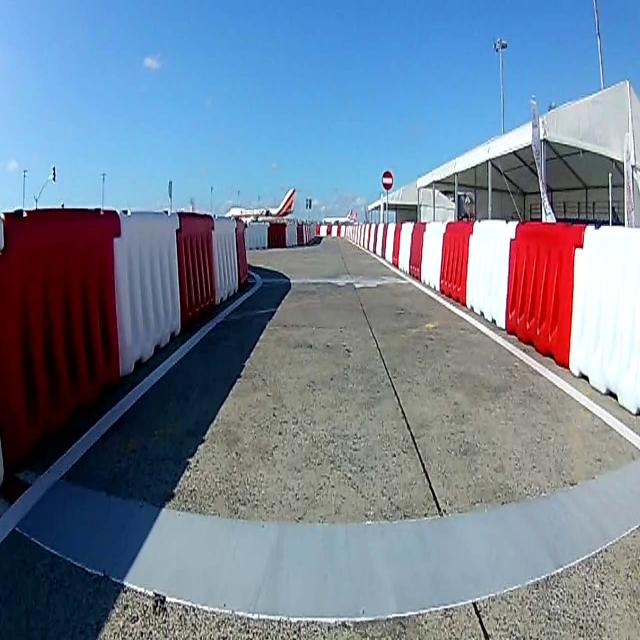girisyok: (381, 169, 394, 191)
